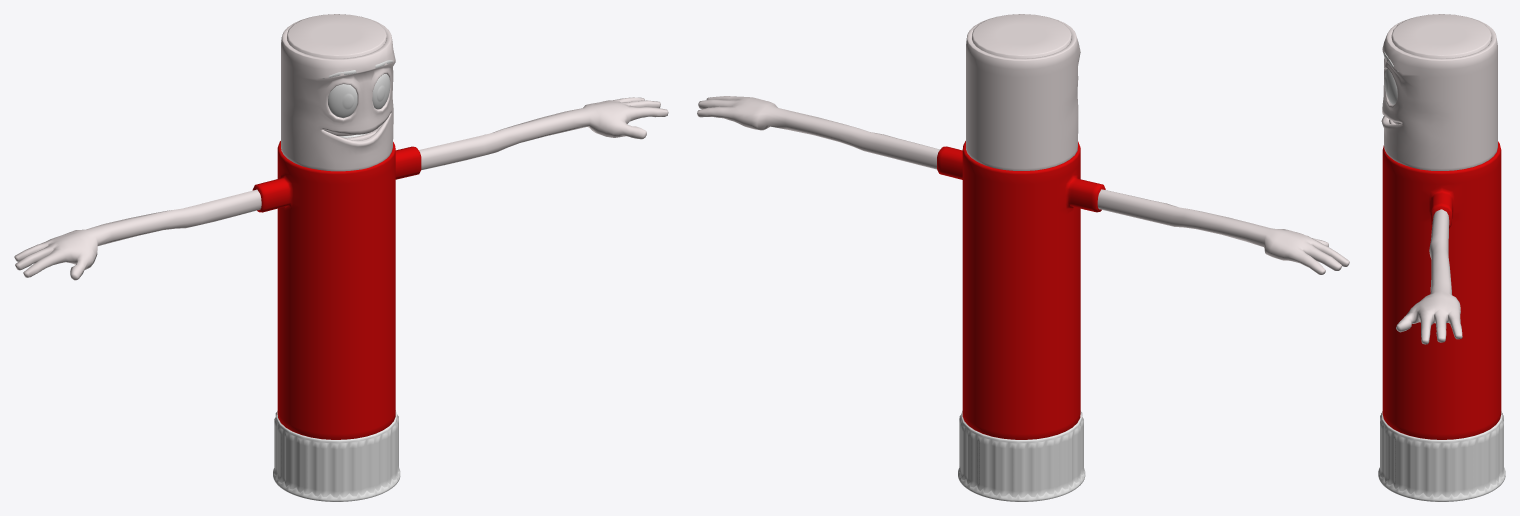
File: character2.glb
3 renders of one model, left to right at view 1: azimuth 30°, elevation 25°; view 2: azimuth 150°, elevation 25°; view 3: azimuth 270°, elevation 25°, orthographic.
Visible parts, largest first — view 1: body, arms, Head_1, feet, glue, eye_glas_right; view 2: body, Head_1, arms, feet, glue; view 3: body, Head_1, feet, arms, glue, eye_glas_left.
Boxes of the visible parts, x1=… form: body: x1=252, y1=141, x2=421, y2=439; arms: x1=14, y1=97, x2=668, y2=280; Head_1: x1=281, y1=18, x2=395, y2=171; feet: x1=273, y1=410, x2=400, y2=501; glue: x1=287, y1=14, x2=386, y2=58; eye_glas_right: x1=328, y1=84, x2=357, y2=118; body: x1=937, y1=141, x2=1105, y2=439; Head_1: x1=966, y1=17, x2=1080, y2=170; arms: x1=697, y1=96, x2=1349, y2=274; feet: x1=958, y1=411, x2=1085, y2=501; glue: x1=972, y1=14, x2=1071, y2=58; body: x1=1382, y1=141, x2=1501, y2=439; Head_1: x1=1381, y1=17, x2=1497, y2=170; feet: x1=1378, y1=411, x2=1505, y2=501; arms: x1=1396, y1=209, x2=1462, y2=344; glue: x1=1391, y1=14, x2=1491, y2=58; eye_glas_left: x1=1384, y1=68, x2=1397, y2=104.
Bounding box in the file's own units: 3.06 × 2 × 0.5245.
5 materials, 1 textured.
